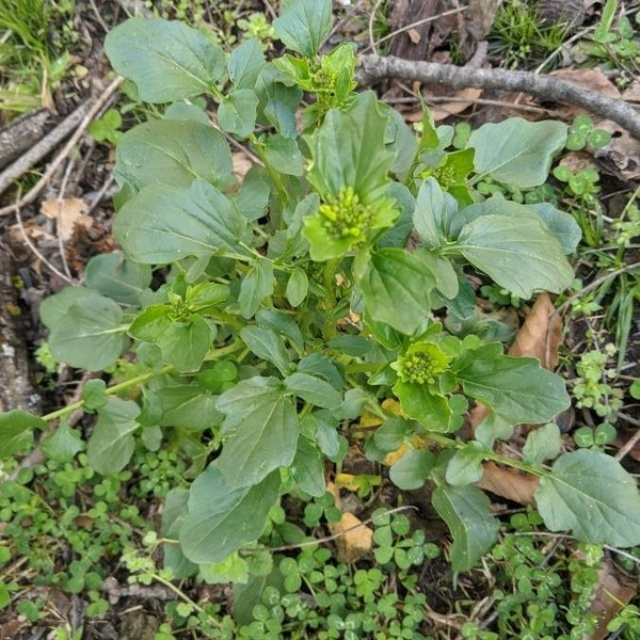obstacle: (115, 35, 581, 596)
